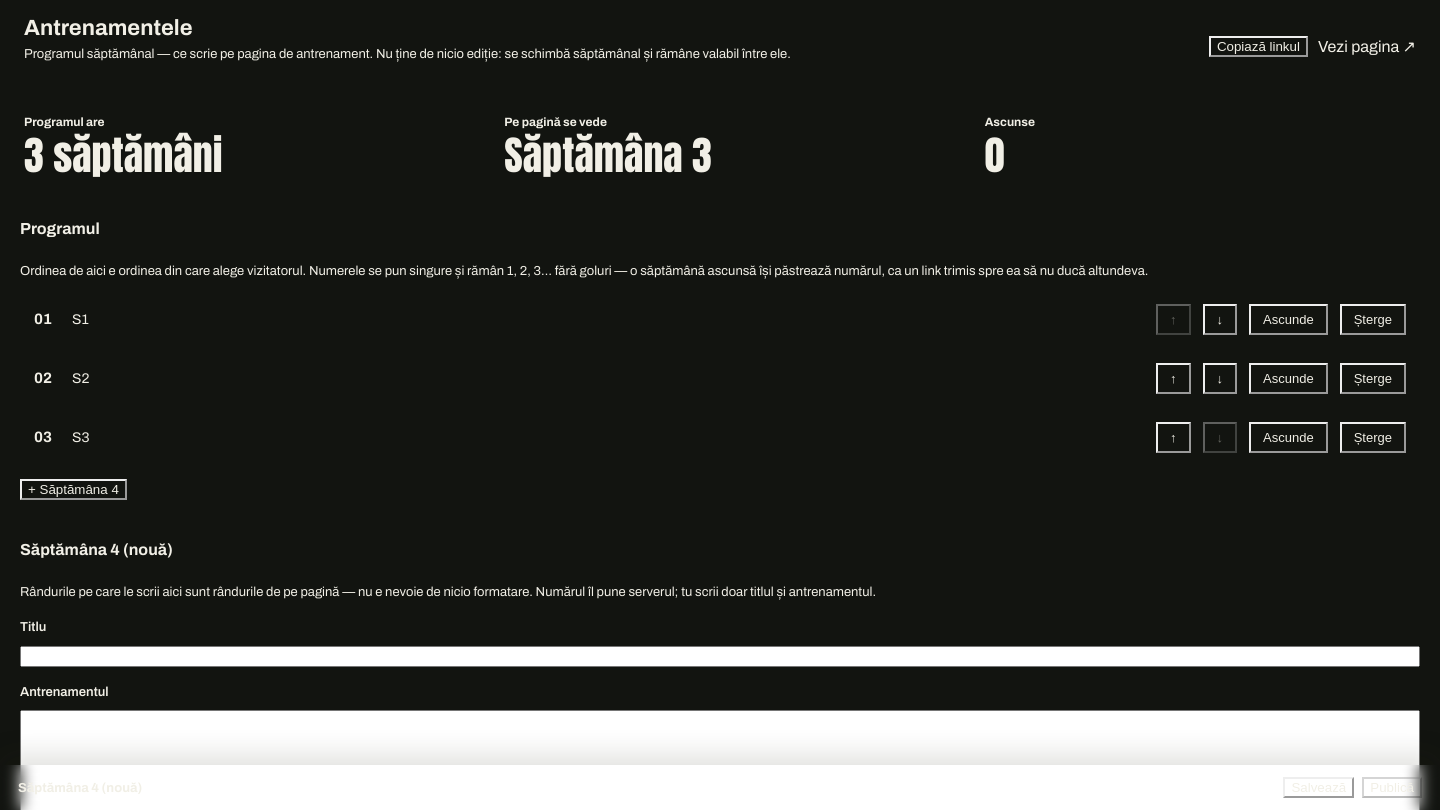
Test: textul nesalvat › fără text atins, schimbarea se face direct
Click the button "S2" at [81, 378], box x1=72 y1=365 x2=1144 y2=392
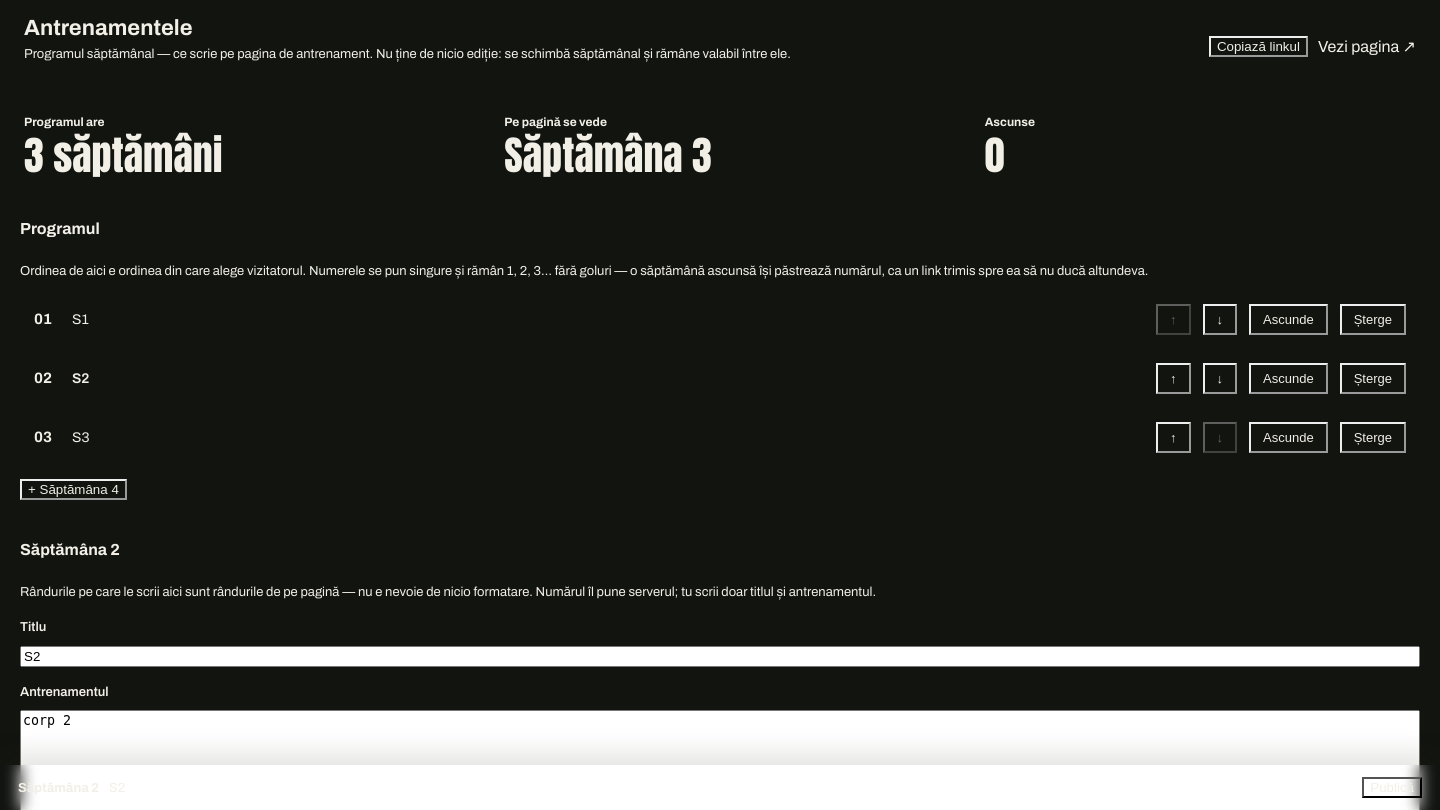
Check: the field labelled "Titlu" holds "S2", box x1=20 y1=646 x2=1420 y2=667
